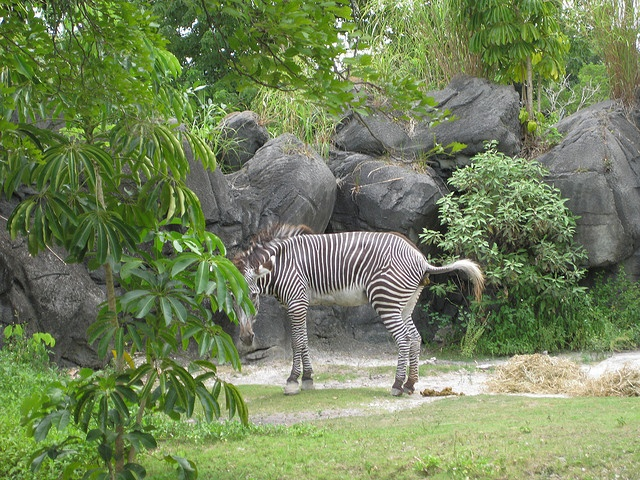zebra: (355, 309, 613, 480)
